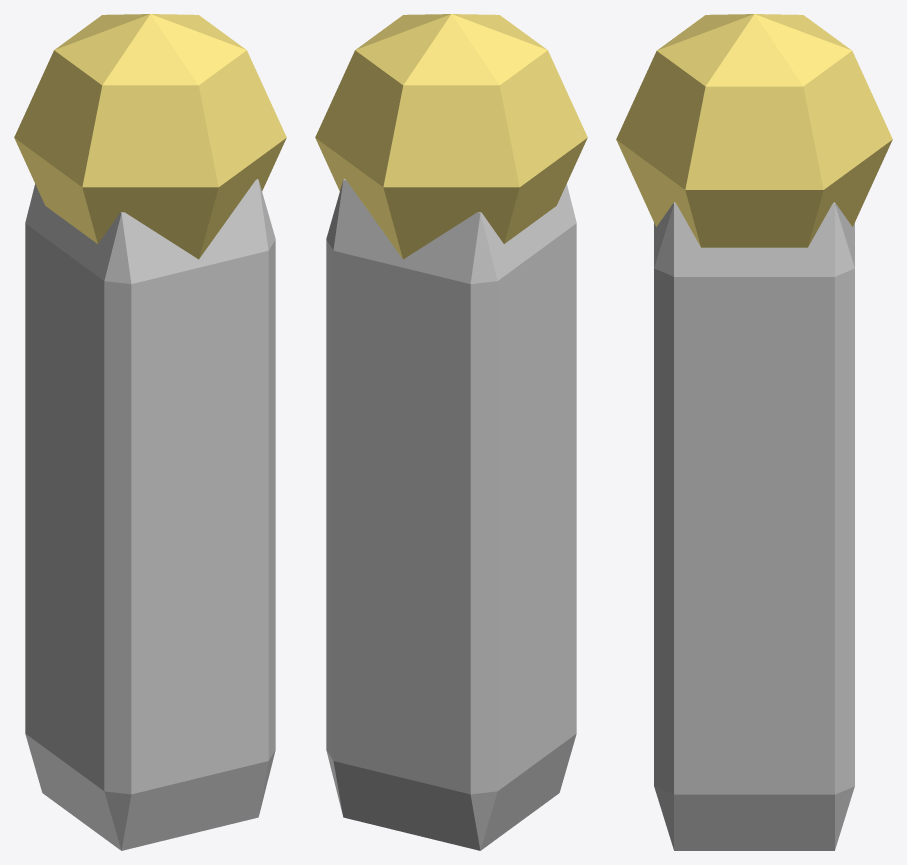
The model's file is CF_FencePost.fbx.
3 views of the same model, side by side, from view 1: azimuth 30°, elevation 25°; view 2: azimuth 150°, elevation 25°; view 3: azimuth 270°, elevation 25° (orthographic).
Visible parts, largest first — view 1: CF_FencePost_Wood, CF_FencePost_Cap; view 2: CF_FencePost_Wood, CF_FencePost_Cap; view 3: CF_FencePost_Wood, CF_FencePost_Cap.
Boxes of the visible parts, left/top/right/bottom form: CF_FencePost_Wood: left=25, top=179, right=275, bottom=850; CF_FencePost_Cap: left=14, top=14, right=286, bottom=259; CF_FencePost_Wood: left=326, top=179, right=576, bottom=850; CF_FencePost_Cap: left=315, top=14, right=587, bottom=259; CF_FencePost_Wood: left=654, top=202, right=854, bottom=850; CF_FencePost_Cap: left=616, top=14, right=892, bottom=247.
Bounding box in the file's own units: 1.07 × 3.97 × 1.24.
